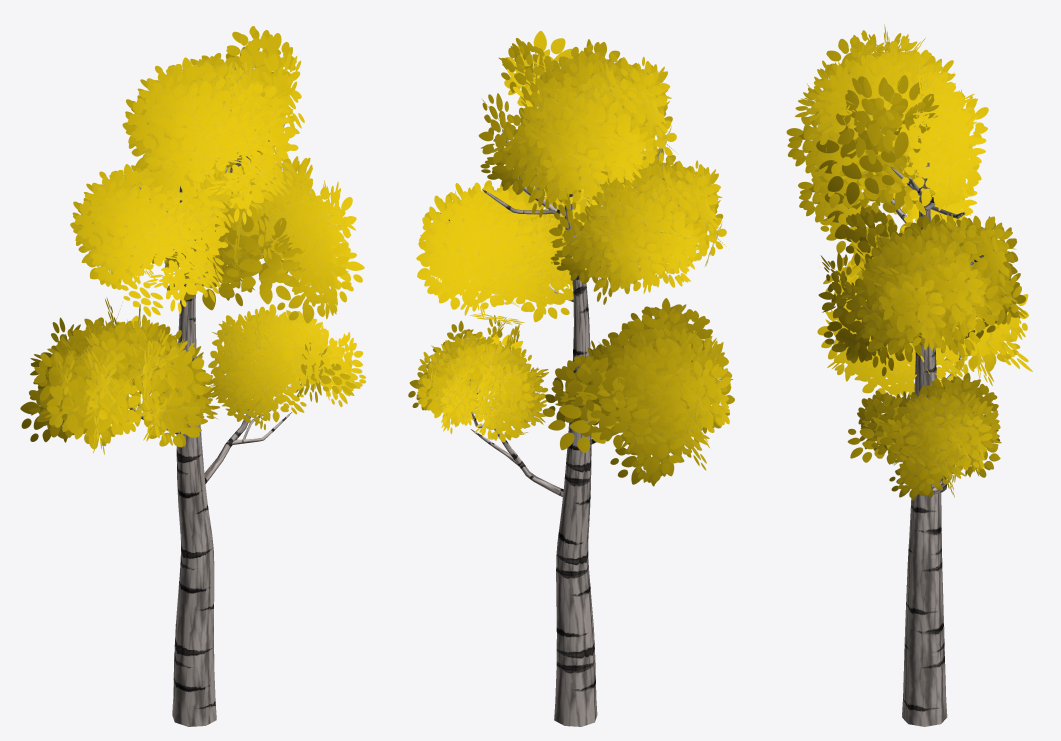
The model's file is Ultimate_BirchTree_1.glb.
The picture shows the model from 3 angles, left to right: view 1: azimuth 30°, elevation 25°; view 2: azimuth 150°, elevation 25°; view 3: azimuth 270°, elevation 25°; orthographic projection. The views are drawn at different scales.
Visible parts, largest first — view 1: BirchTree_1; view 2: BirchTree_1; view 3: BirchTree_1.
Boxes of the visible parts, x1=… form: BirchTree_1: x1=20, y1=26, x2=365, y2=726; BirchTree_1: x1=408, y1=30, x2=734, y2=726; BirchTree_1: x1=786, y1=24, x2=1032, y2=726.
Bounding box in the file's own units: 2.71 × 5.45 × 1.94.
2 materials, 2 textured.
